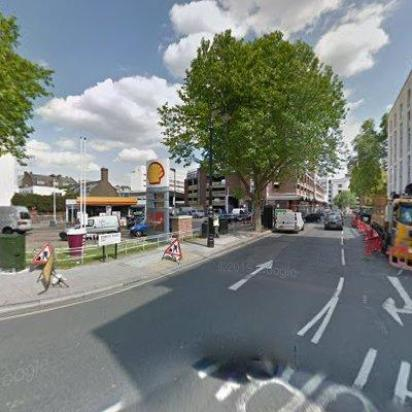moving-car: (324, 212, 342, 230), (300, 213, 322, 223), (188, 208, 204, 218)
moving-light-truck: (0, 205, 34, 233), (272, 209, 304, 232), (232, 208, 252, 218)
stationary-heavy-truck-onstreet: (356, 190, 412, 270)
stationary-light-truck-offstreet: (58, 215, 119, 241), (128, 216, 172, 238)
